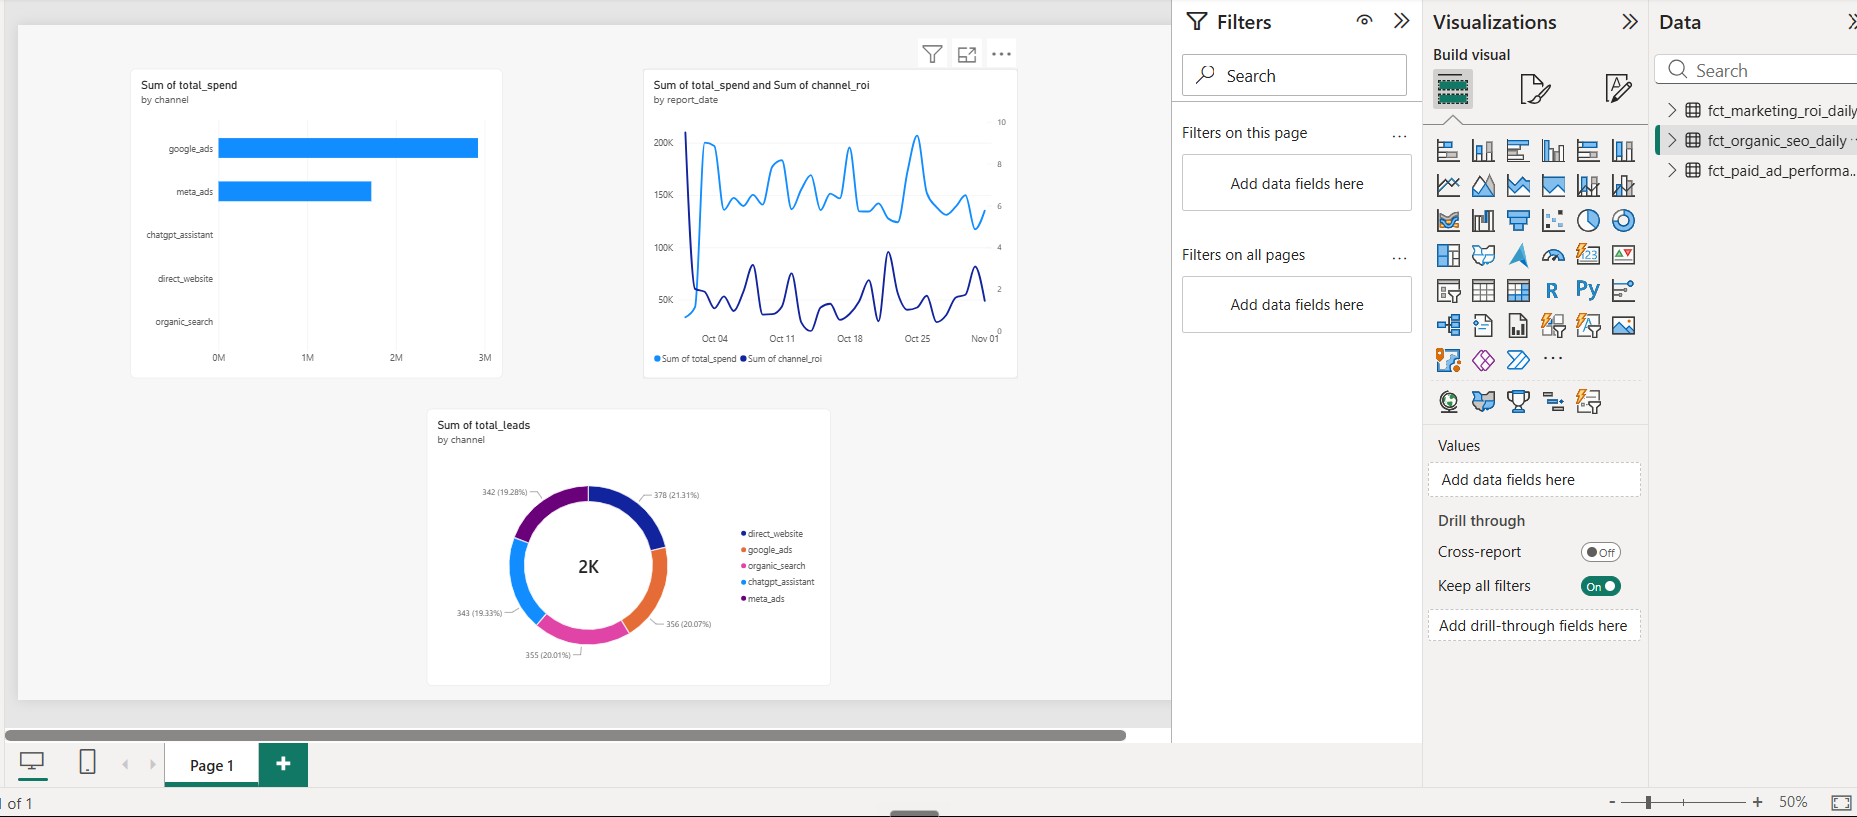

What the dashboard file says about the page in this screenshot:
{"tool":"powerbi","page":{"name":"Page 1","canvas":[1920,1080],"ordinal":0},"visuals":[{"type":"clusteredBarChart","fields":{"Category":["fct_marketing_roi_daily.channel"],"Y":["Sum(fct_marketing_roi_daily.total_spend)"]},"box":[180,70,595,495],"z":0},{"type":"lineChart","fields":{"Y":["Sum(fct_marketing_roi_daily.total_spend)"],"Y2":["Sum(fct_marketing_roi_daily.channel_roi)"],"Category":["fct_marketing_roi_daily.report_date"]},"box":[1000,70,600,495],"z":1},{"type":"donutChart","fields":{"Category":["fct_marketing_roi_daily.channel"],"Y":["Sum(fct_marketing_roi_daily.total_leads)"]},"box":[653.3,613.3,646.7,443.3],"z":2}]}

Visuals, with their boxes on the page's 1920x1080 design canvas (x1, y1, x2, y2). These are canvas units, not pixel positions in the 1857x817 screenshot, which may show the page scaled, cropped or inside an application window:
clusteredBarChart - fct_marketing_roi_daily.channel x Sum(fct_marketing_roi_daily.total_spend): crop(180, 70, 775, 565)
lineChart - Sum(fct_marketing_roi_daily.total_spend) x Sum(fct_marketing_roi_daily.channel_roi): crop(1000, 70, 1600, 565)
donutChart - fct_marketing_roi_daily.channel x Sum(fct_marketing_roi_daily.total_leads): crop(653, 613, 1300, 1057)
